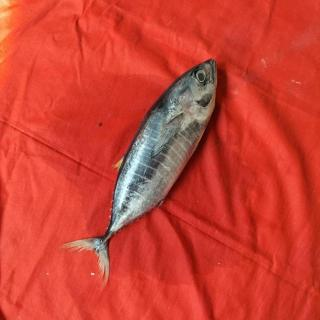Ikan: (66, 53, 232, 283)
